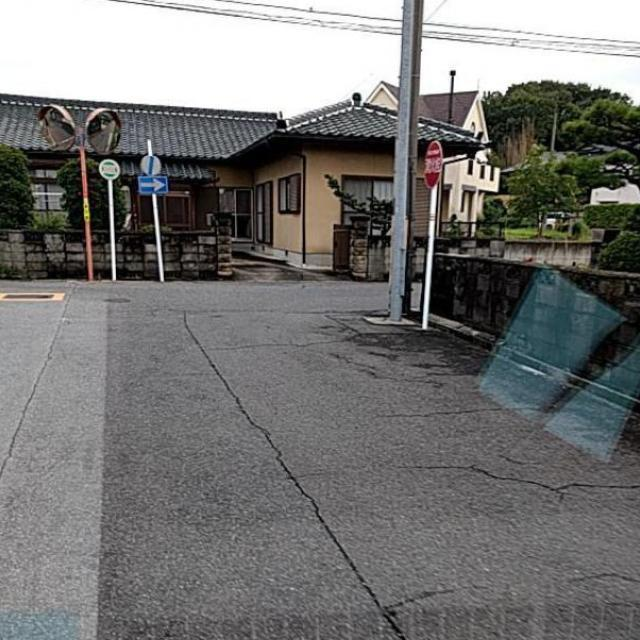Memanjang: (168, 310, 422, 640)
